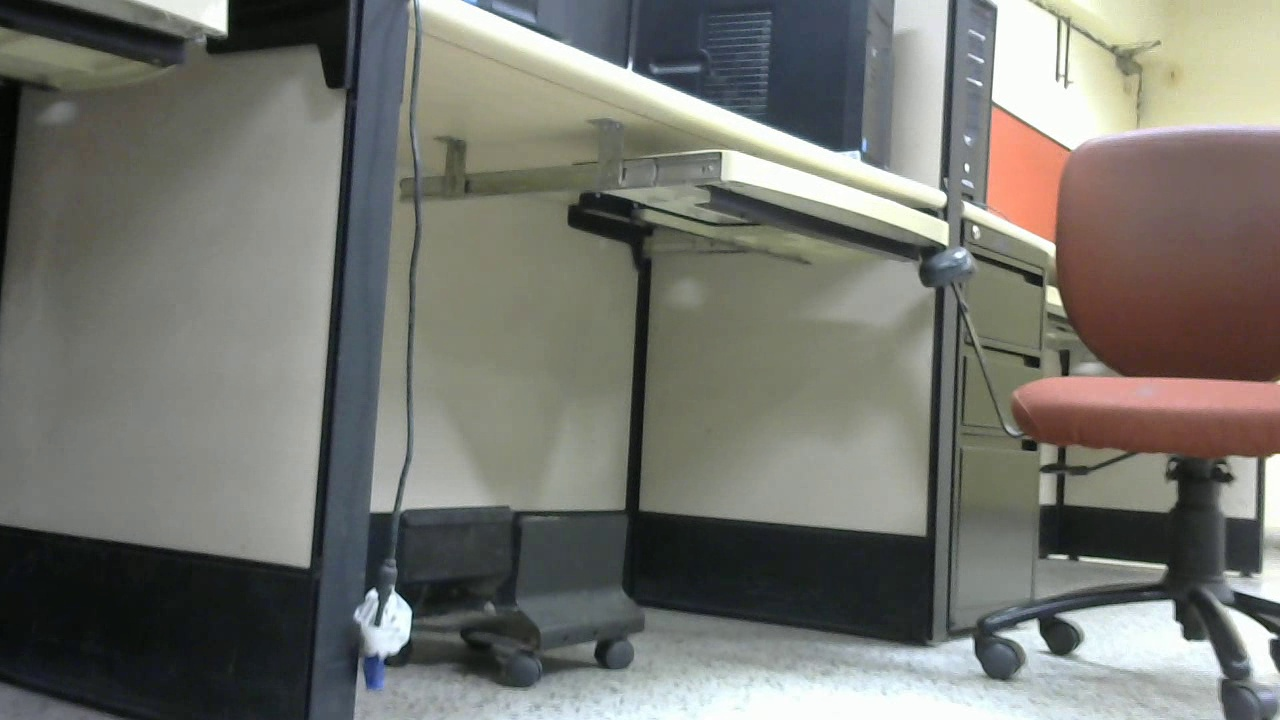chair: (858, 5, 1280, 720), (283, 227, 537, 537)
